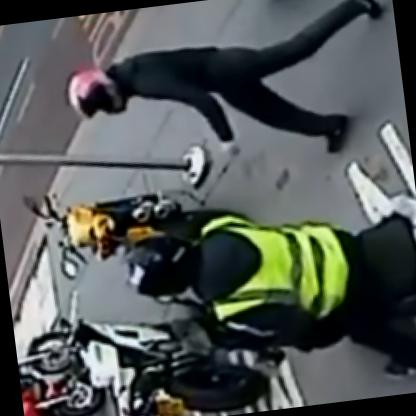Human Body: (121, 190, 415, 409), (55, 0, 397, 187)
